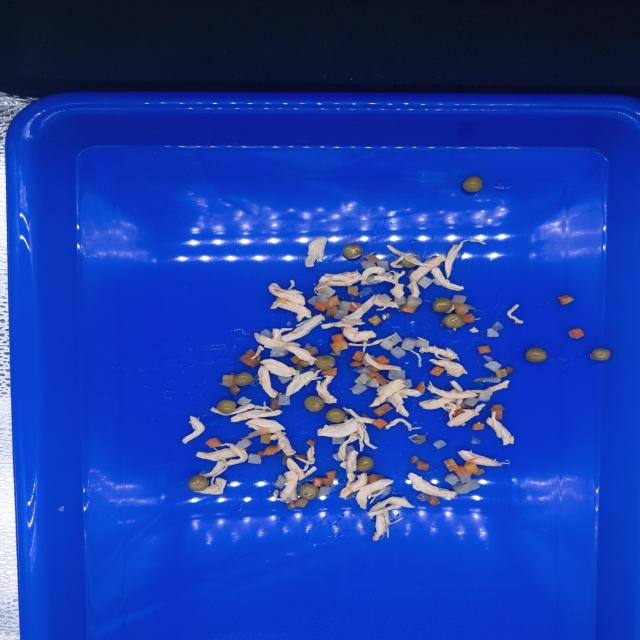Carrot: (313, 470, 337, 487), (240, 349, 261, 368), (372, 404, 393, 417), (290, 356, 310, 368), (443, 458, 459, 472), (258, 445, 278, 455), (454, 465, 470, 477), (330, 341, 348, 351), (490, 404, 502, 419), (569, 328, 585, 339), (372, 419, 388, 430), (205, 438, 222, 448), (464, 462, 478, 474), (558, 295, 574, 305), (427, 495, 441, 506), (430, 366, 445, 376), (414, 381, 426, 393), (401, 304, 417, 313), (352, 350, 365, 361), (331, 334, 345, 344), (368, 315, 382, 325), (461, 314, 475, 323), (329, 295, 340, 306), (375, 356, 390, 364), (322, 368, 337, 376), (314, 302, 326, 312), (417, 461, 429, 471), (349, 302, 361, 312), (478, 345, 491, 354), (367, 474, 380, 483), (376, 374, 387, 384), (348, 286, 359, 296), (349, 360, 364, 367), (366, 365, 381, 372), (452, 408, 465, 416), (229, 385, 240, 394), (473, 467, 485, 475), (262, 433, 271, 443), (223, 375, 234, 383), (473, 423, 484, 430), (306, 439, 316, 446), (369, 372, 379, 378)
Chicken_Shred: (317, 416, 378, 462), (258, 359, 322, 398), (254, 328, 318, 365), (369, 379, 422, 417), (320, 294, 375, 329), (273, 458, 317, 501), (268, 280, 312, 322), (445, 239, 486, 279), (318, 267, 385, 287), (408, 472, 458, 498), (368, 504, 403, 541), (281, 314, 326, 342), (194, 461, 228, 495), (356, 479, 393, 509), (386, 245, 433, 268), (443, 403, 486, 427), (410, 254, 445, 283), (486, 411, 514, 446), (427, 380, 478, 399), (371, 271, 405, 299), (196, 443, 248, 461), (347, 333, 395, 352), (368, 496, 416, 514), (458, 450, 510, 466), (431, 267, 464, 291), (340, 472, 368, 498), (340, 450, 359, 487), (305, 237, 328, 267), (430, 359, 468, 377), (364, 353, 402, 371), (270, 431, 296, 456), (182, 416, 205, 444), (230, 410, 282, 422), (315, 375, 337, 403), (419, 346, 460, 361), (245, 418, 285, 433), (210, 403, 255, 416), (342, 407, 375, 424), (343, 326, 377, 342), (419, 397, 464, 409), (385, 418, 422, 431), (296, 446, 315, 471), (473, 380, 509, 393), (372, 294, 399, 311), (507, 304, 524, 323), (407, 281, 421, 298), (222, 457, 247, 466)
Peas: (462, 176, 483, 192), (188, 475, 209, 491), (304, 396, 324, 412), (443, 314, 465, 328), (525, 348, 547, 362), (300, 484, 319, 500), (343, 244, 363, 259), (315, 355, 335, 369), (326, 408, 346, 422), (432, 298, 452, 312), (233, 372, 253, 386), (216, 400, 236, 414), (356, 456, 374, 471), (591, 348, 611, 360), (401, 258, 416, 268), (414, 256, 419, 260)
Potato_White: (351, 367, 379, 395), (308, 282, 336, 306), (452, 474, 480, 494), (462, 390, 493, 406), (380, 332, 403, 350), (401, 338, 429, 350), (270, 347, 290, 357), (418, 276, 433, 289), (484, 361, 501, 372), (391, 346, 405, 359), (274, 475, 287, 489), (366, 275, 383, 285), (235, 439, 252, 449), (445, 473, 458, 486), (407, 296, 422, 307), (236, 396, 252, 406), (345, 445, 355, 461), (388, 370, 405, 379), (248, 453, 261, 464), (474, 378, 501, 383), (361, 261, 376, 270), (338, 301, 351, 311), (260, 329, 273, 339), (378, 294, 392, 303), (378, 261, 390, 271), (278, 395, 290, 405), (433, 440, 446, 449), (335, 310, 348, 319), (318, 487, 331, 496), (278, 376, 292, 384), (394, 296, 406, 305), (487, 329, 499, 337), (332, 437, 345, 444), (382, 486, 392, 495), (403, 379, 412, 388), (332, 453, 342, 461), (433, 278, 441, 285)
